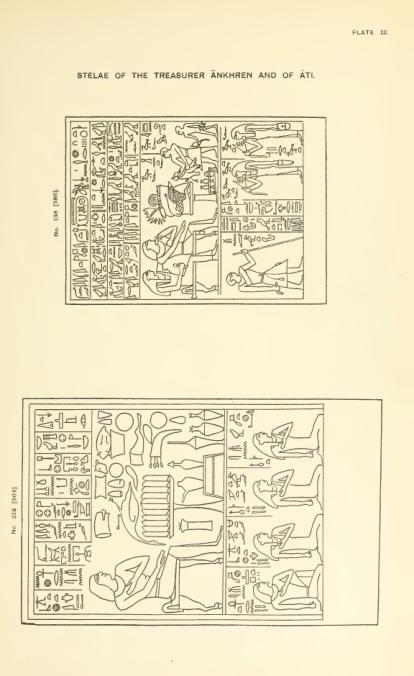circle: (74, 195, 89, 228)
